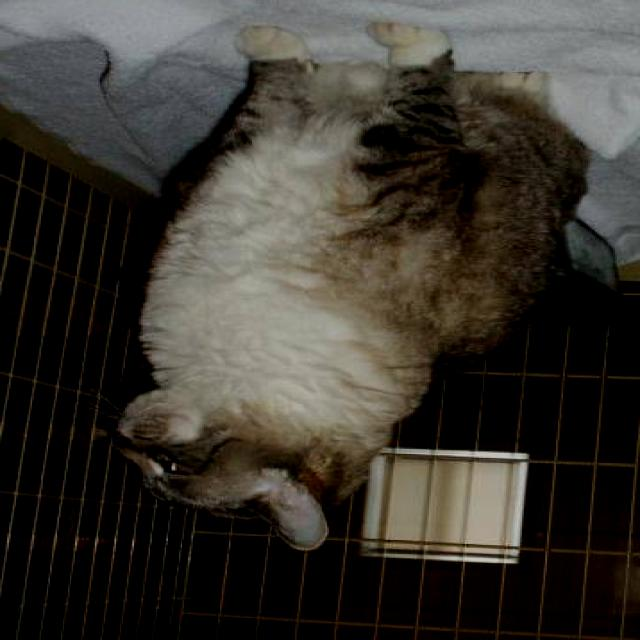Kucing: (101, 39, 572, 569)
